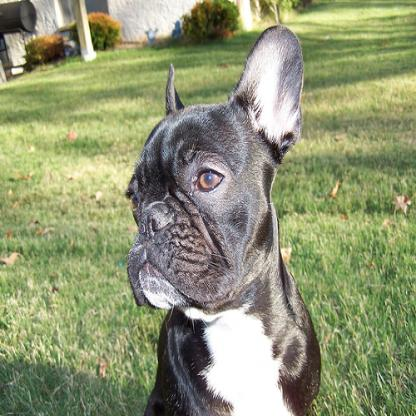French_bulldog: (126, 24, 320, 414)
